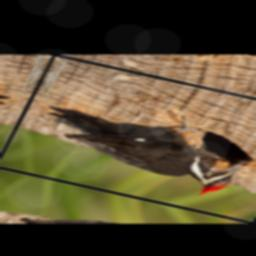Woodpecker: (21, 87, 256, 202)
